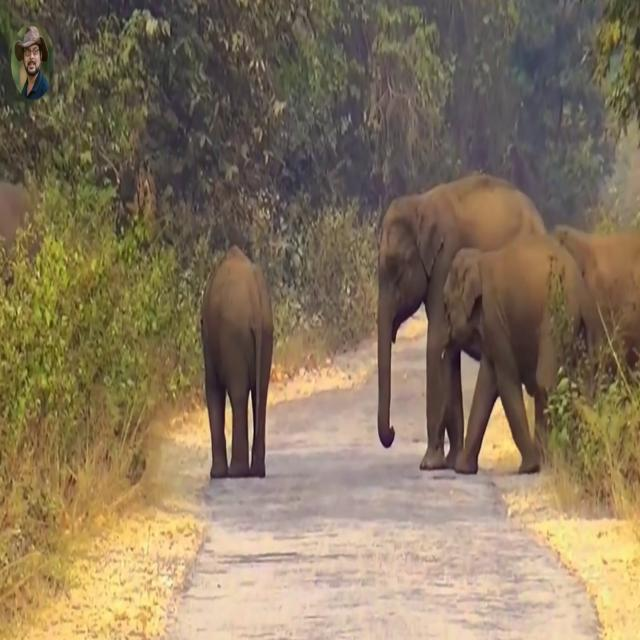Elephant: (376, 172, 548, 470), (440, 232, 600, 476), (200, 243, 274, 479), (553, 223, 640, 392)
